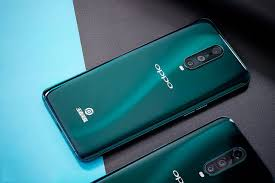oppo: (33, 20, 248, 162)
